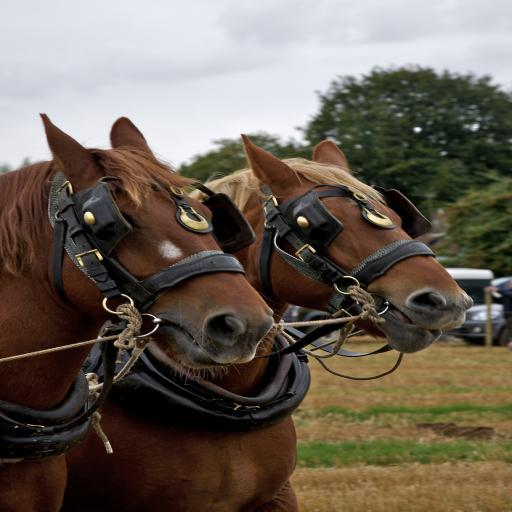Horse: (65, 132, 472, 512), (0, 110, 289, 512)
